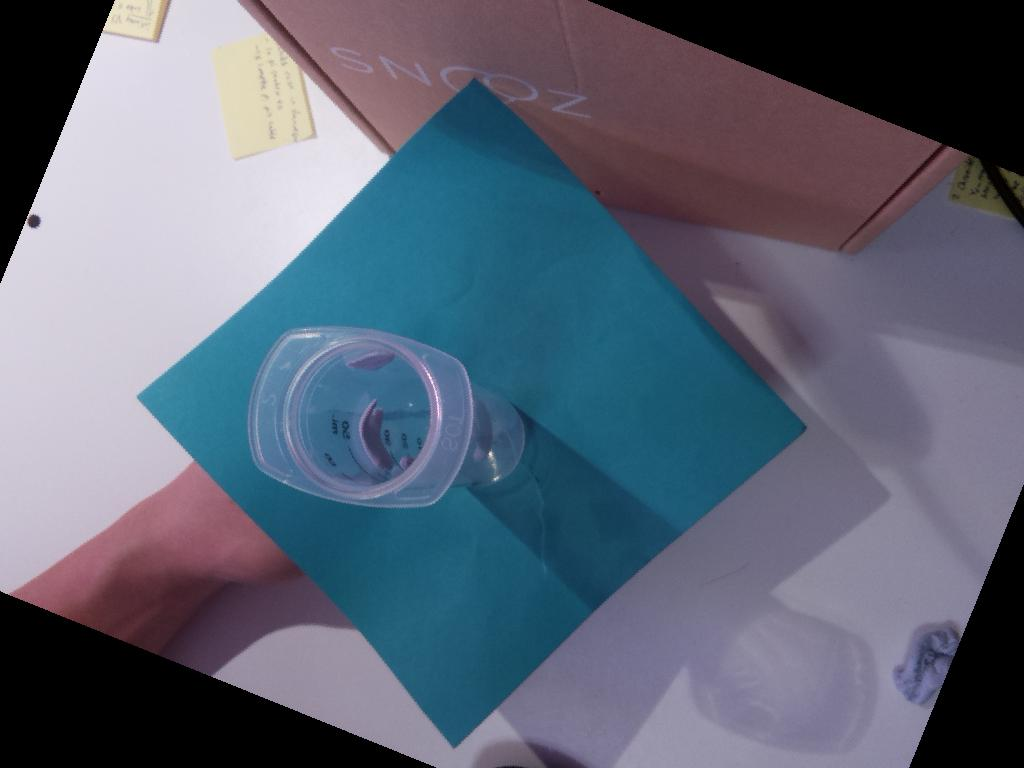dirty: (247, 327, 474, 509)
